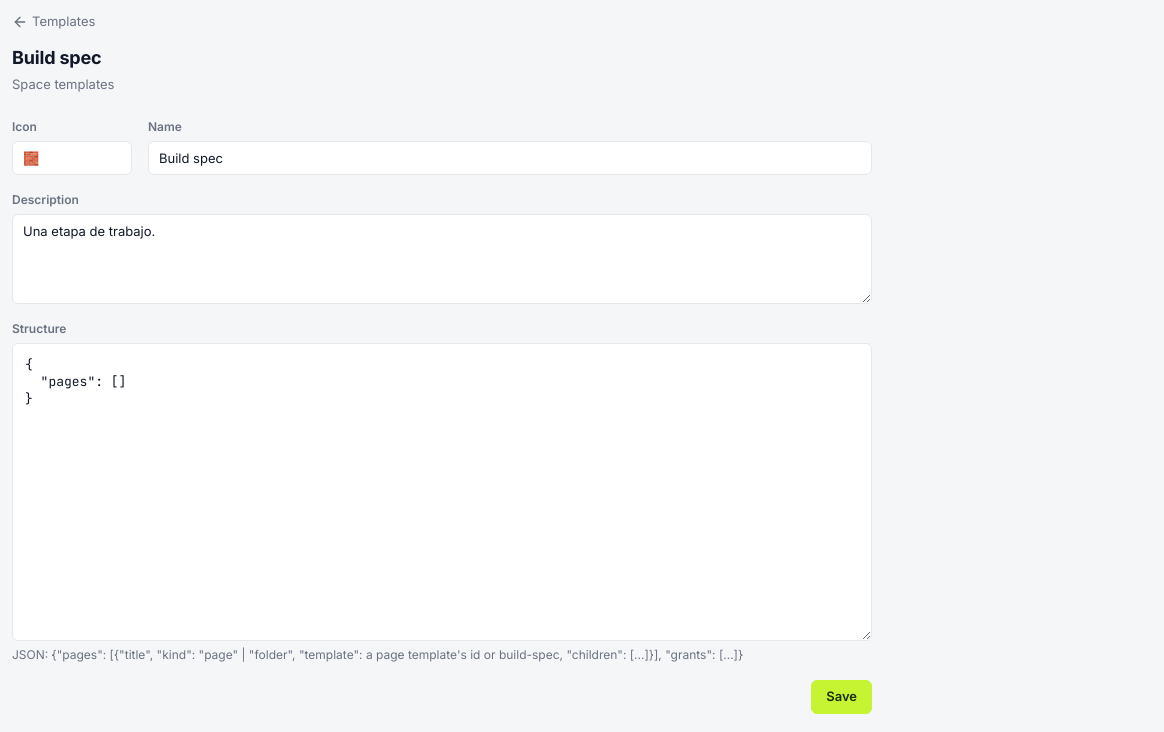
Test: TemplateForm › says when a space template structure is not JSON
The width and height of the screenshot is (1164, 732).
Replace the text in the text box labelled "Structure" with "no es json" at (442, 492), box [12,343,872,641]
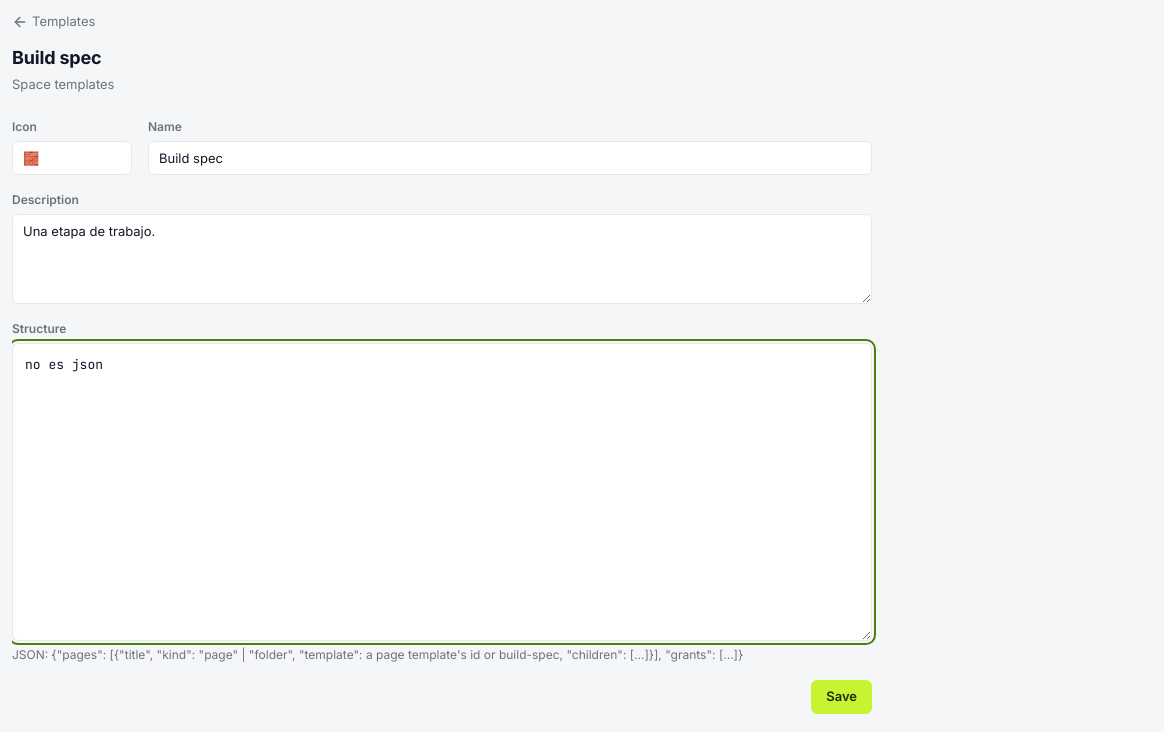
Click the button "Save".
click(842, 697)  # box [811,680,872,714]
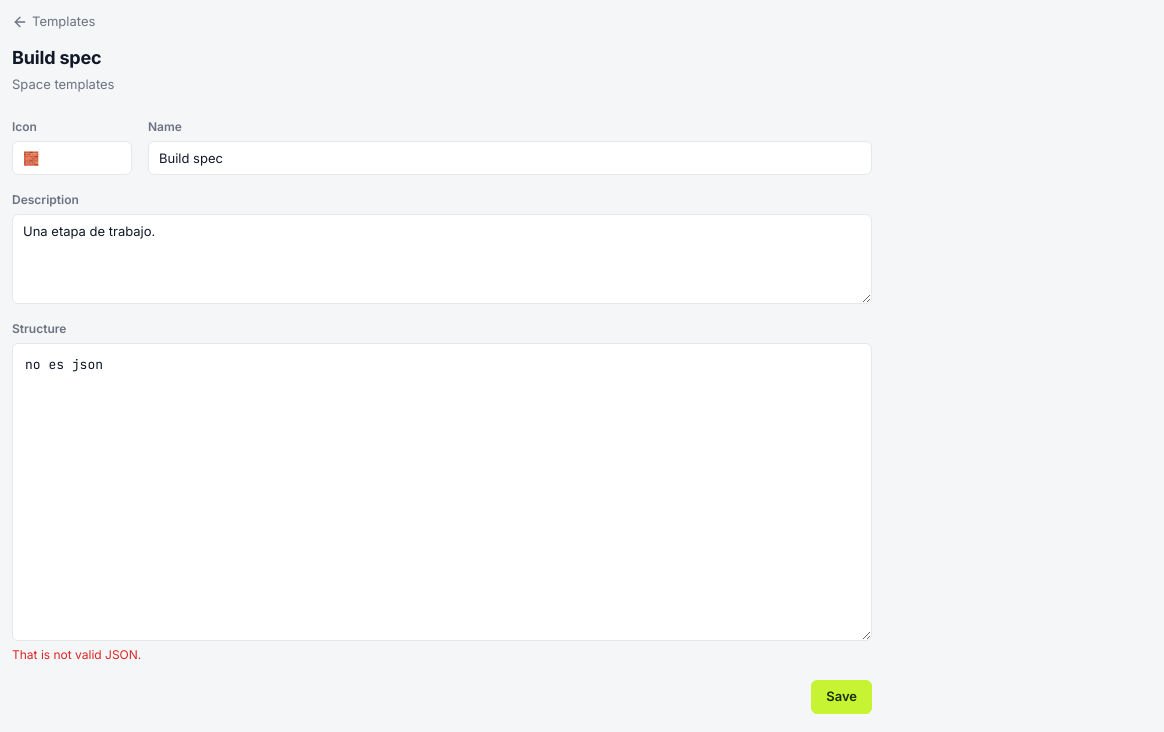
expect the text "That is not valid JSON." is shown: met, box [12,647,141,662]
